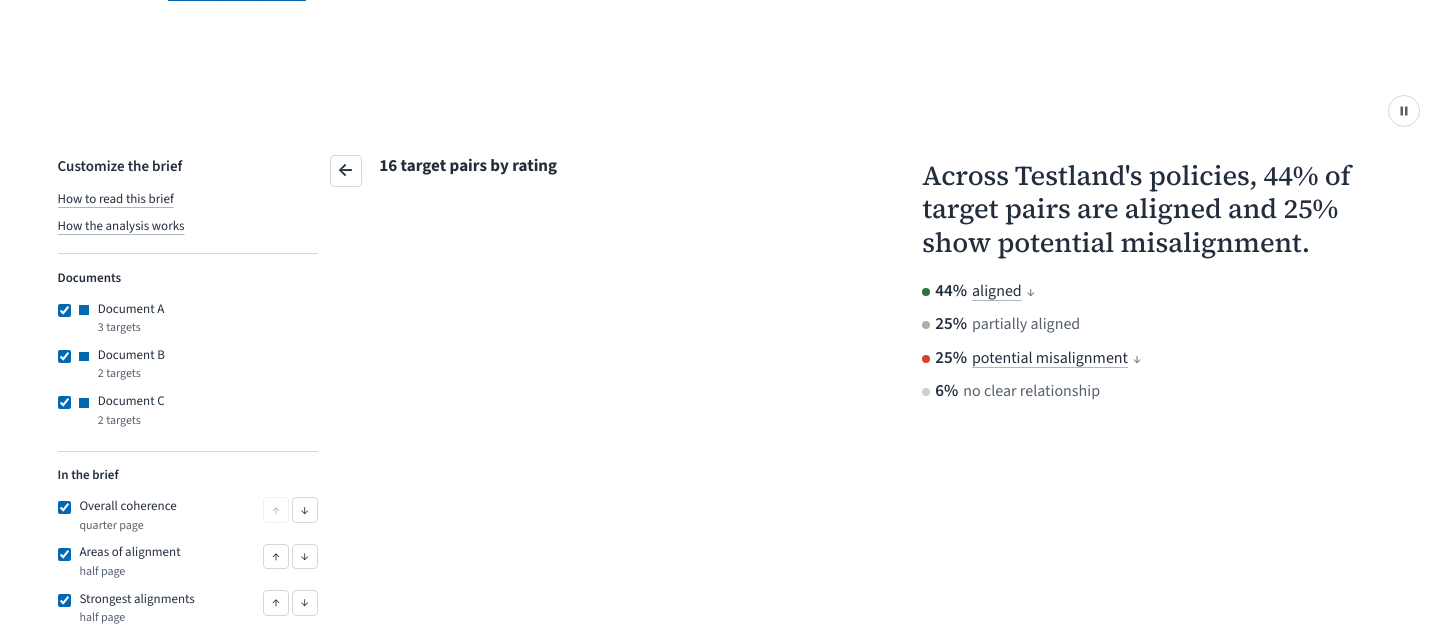
Test case: BriefApp › keeps at least two documents
The image size is (1440, 634).
(page scrolled)
Click the checkbox labelled "Document C 2 targets": (64, 403) [58,396,71,409]
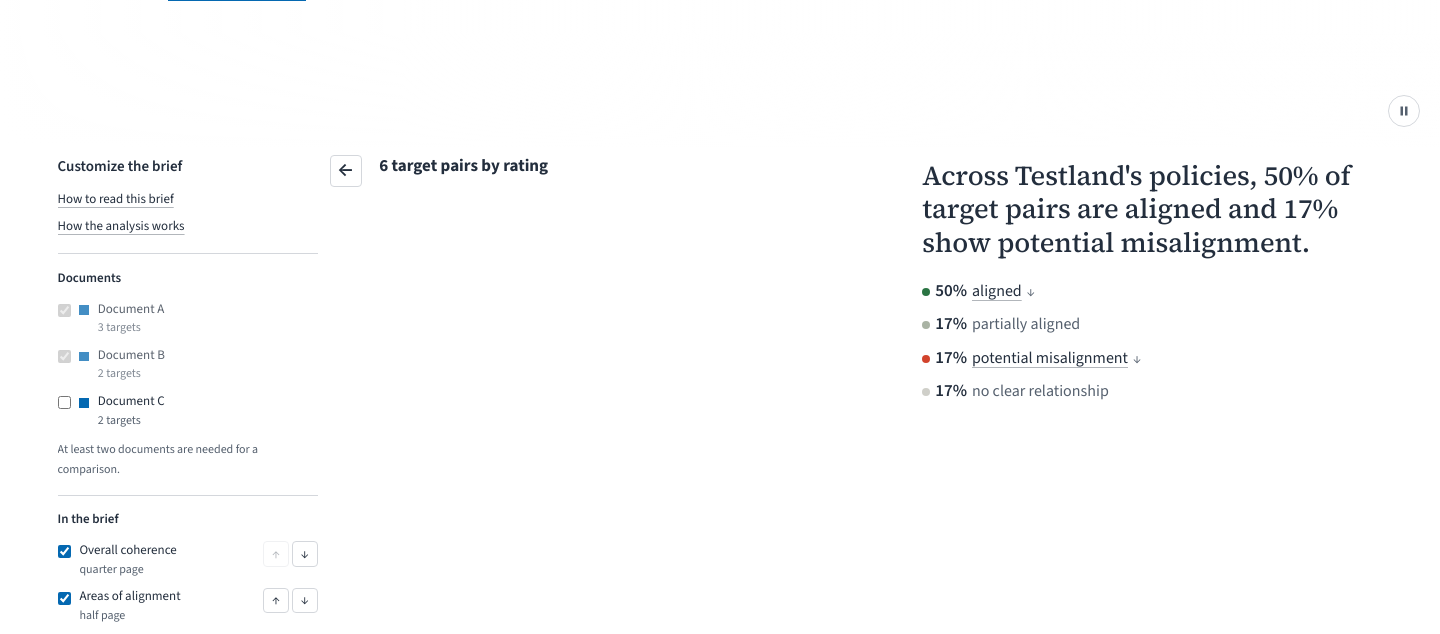
Result: the checkbox labelled "Document A 3 targets" is disabled at [58,304,71,317]
Result: the text "At least two documents are needed for a comparison." is shown at [58,441,258,478]
